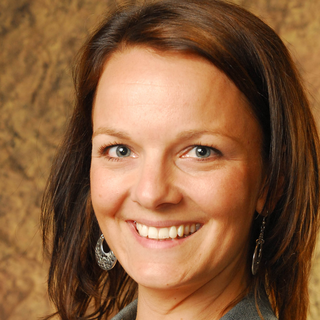eye: (178, 140, 225, 164), (100, 139, 140, 164)
